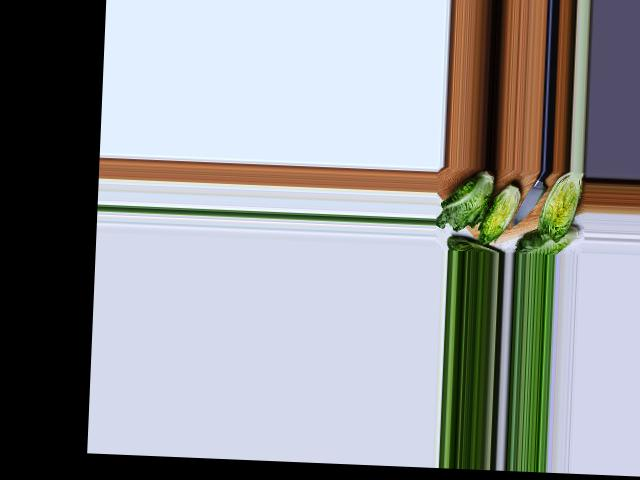lettuce: (516, 224, 578, 253)
